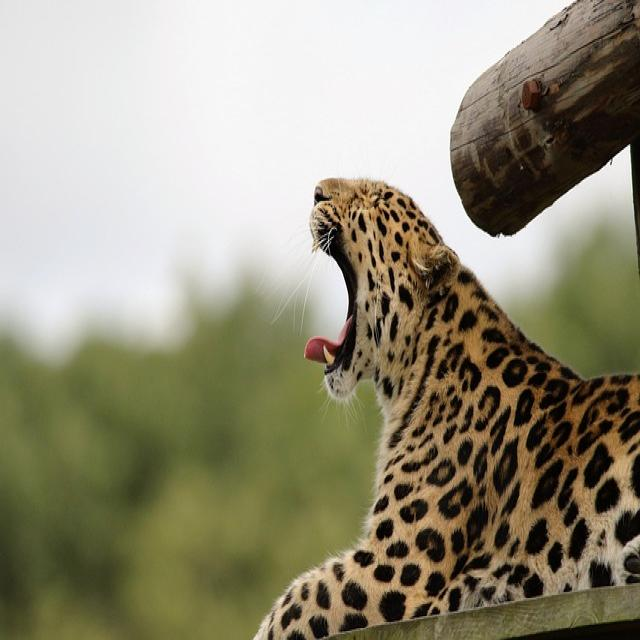Carnivorous: (251, 177, 640, 640)
